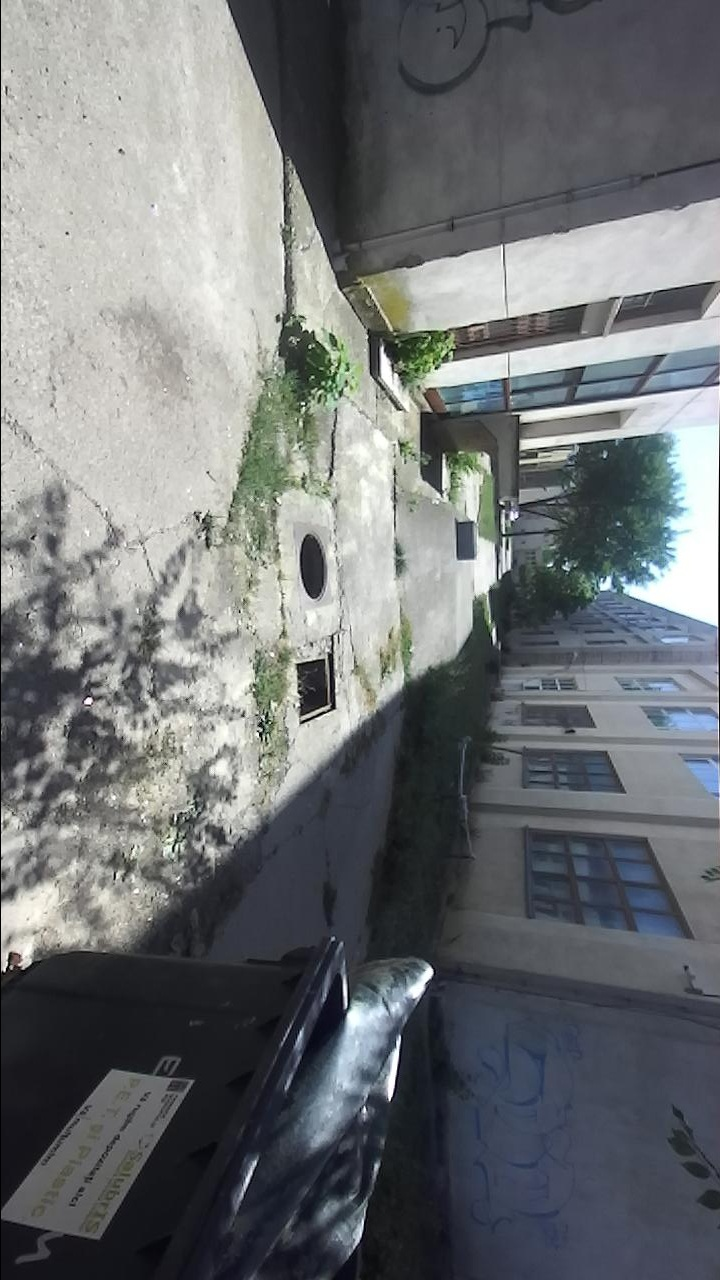drain: (293, 650, 336, 730), (295, 528, 330, 609)
